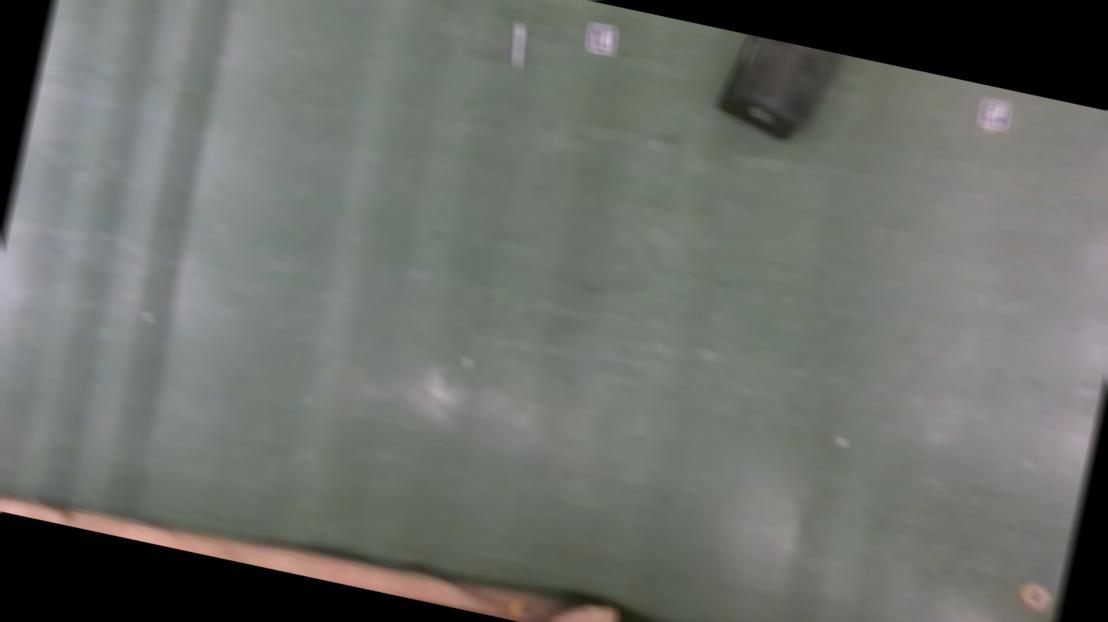probes: (502, 22, 526, 70)
rako: (711, 31, 848, 151)
